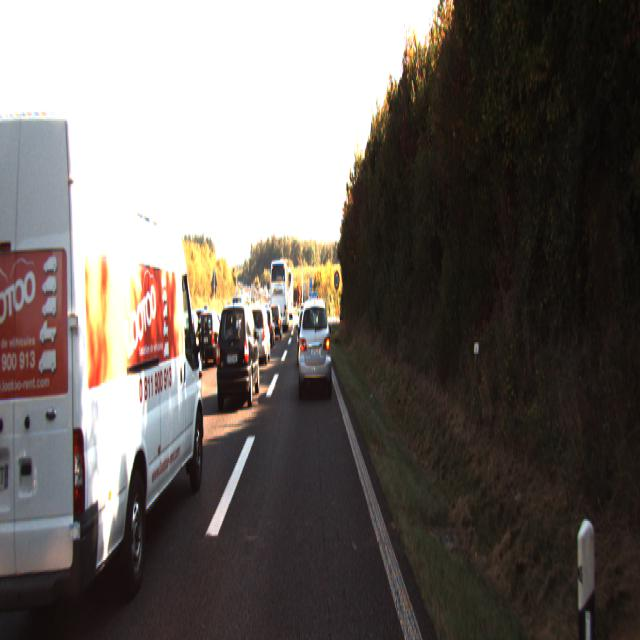Car: (0, 99, 208, 638), (0, 334, 83, 540), (86, 313, 167, 439), (214, 299, 260, 411), (298, 296, 332, 398), (196, 309, 227, 367), (245, 301, 271, 366), (270, 257, 290, 330), (258, 309, 275, 350), (269, 305, 283, 340)
